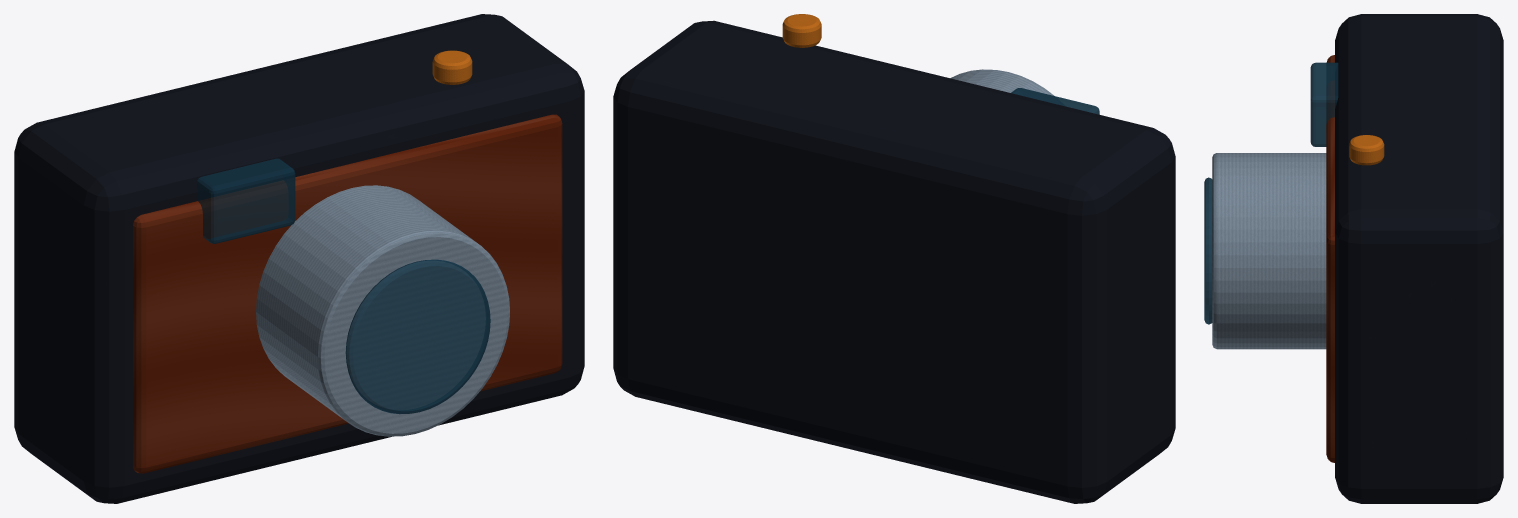
Rendered from appareil-argentique.glb.
3 views of the same model, side by side, from view 1: azimuth 30°, elevation 25°; view 2: azimuth 150°, elevation 25°; view 3: azimuth 270°, elevation 25° (orthographic). The views are drawn at different scales.
Parts seen in each view (by area): view 1: Corps, Gainage, Objectif, Lentille, Viseur, Declencheur; view 2: Corps, Objectif, Declencheur, Viseur; view 3: Corps, Objectif, Gainage, Viseur, Lentille, Declencheur.
Part boxes in pixels (x1=…): Corps: x1=14, y1=14, x2=584, y2=503; Gainage: x1=133, y1=114, x2=562, y2=473; Objectif: x1=256, y1=185, x2=509, y2=436; Lentille: x1=345, y1=259, x2=490, y2=414; Viseur: x1=197, y1=158, x2=295, y2=243; Declencheur: x1=432, y1=50, x2=472, y2=84; Corps: x1=613, y1=20, x2=1175, y2=503; Objectif: x1=950, y1=69, x2=1054, y2=95; Declencheur: x1=782, y1=14, x2=821, y2=47; Viseur: x1=1011, y1=88, x2=1099, y2=114; Corps: x1=1335, y1=14, x2=1503, y2=503; Objectif: x1=1212, y1=153, x2=1326, y2=349; Gainage: x1=1326, y1=55, x2=1334, y2=462; Viseur: x1=1310, y1=62, x2=1338, y2=146; Lentille: x1=1204, y1=177, x2=1212, y2=324; Declencheur: x1=1349, y1=135, x2=1384, y2=165.
Size of the model in its own units: 2.9 by 2 by 1.71.
Materials: 5 (5 with a texture image).
